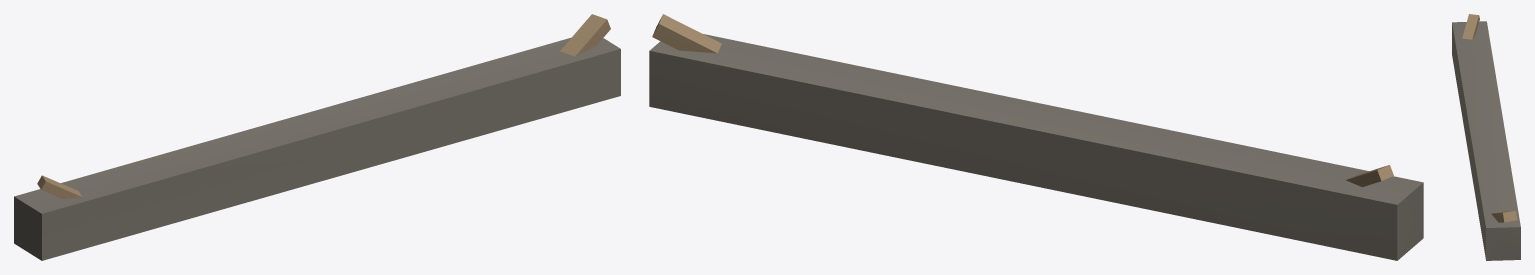
Rendered from Beam_Jump.glb.
3 views of the same model, side by side, from view 1: azimuth 30°, elevation 25°; view 2: azimuth 150°, elevation 25°; view 3: azimuth 270°, elevation 25° (orthographic). The views are drawn at different scales.
Visible parts, largest first — view 1: Beam_Jump; view 2: Beam_Jump; view 3: Beam_Jump.
Part boxes in pixels (x1,y1,x2,y2): Beam_Jump: (14,14,620,260); Beam_Jump: (649,14,1423,260); Beam_Jump: (1452,14,1520,260).
Bounding box in the file's own units: 7.05 × 0.7536 × 0.9871.
